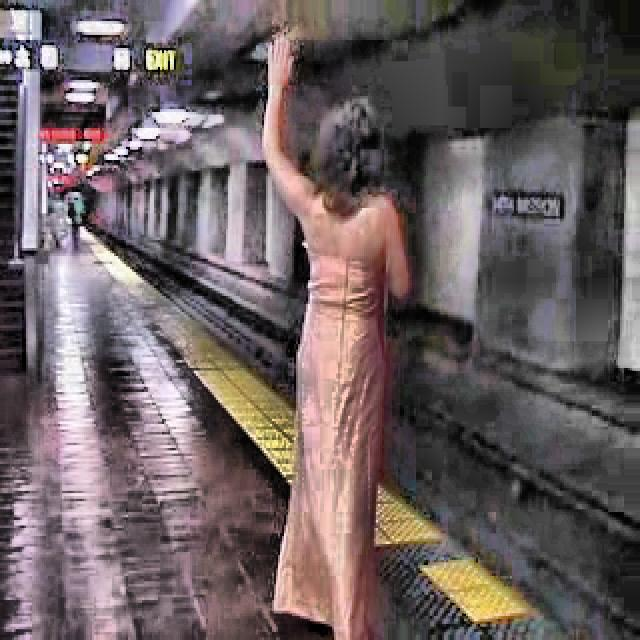L: (254, 2, 420, 640)
